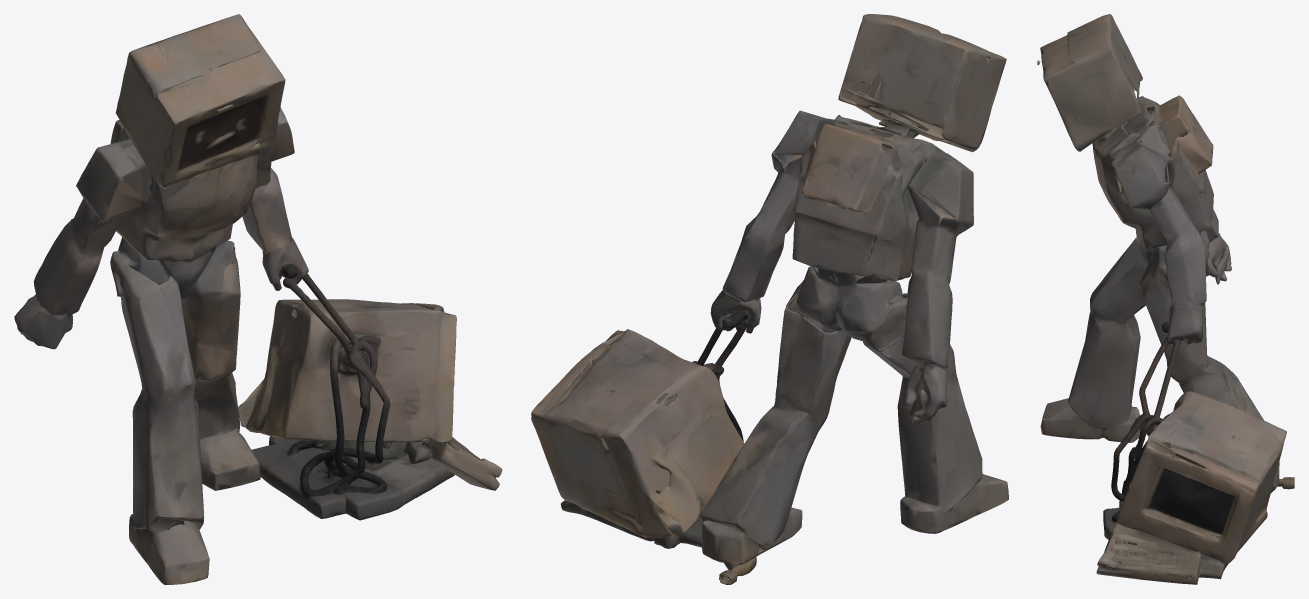
The model's file is statue.glb.
The picture shows the model from 3 angles, left to right: view 1: azimuth 30°, elevation 25°; view 2: azimuth 150°, elevation 25°; view 3: azimuth 270°, elevation 25°; orthographic projection. The views are drawn at different scales.
Visible parts, largest first — view 1: statue; view 2: statue; view 3: statue.
Part boxes in pixels (<box>): statue: <box>14,14,502,584</box>; statue: <box>531,14,1008,584</box>; statue: <box>1037,14,1294,584</box>.
Size of the model in its own units: 2.37 by 2.9 by 1.56.
1 material, 1 textured.
